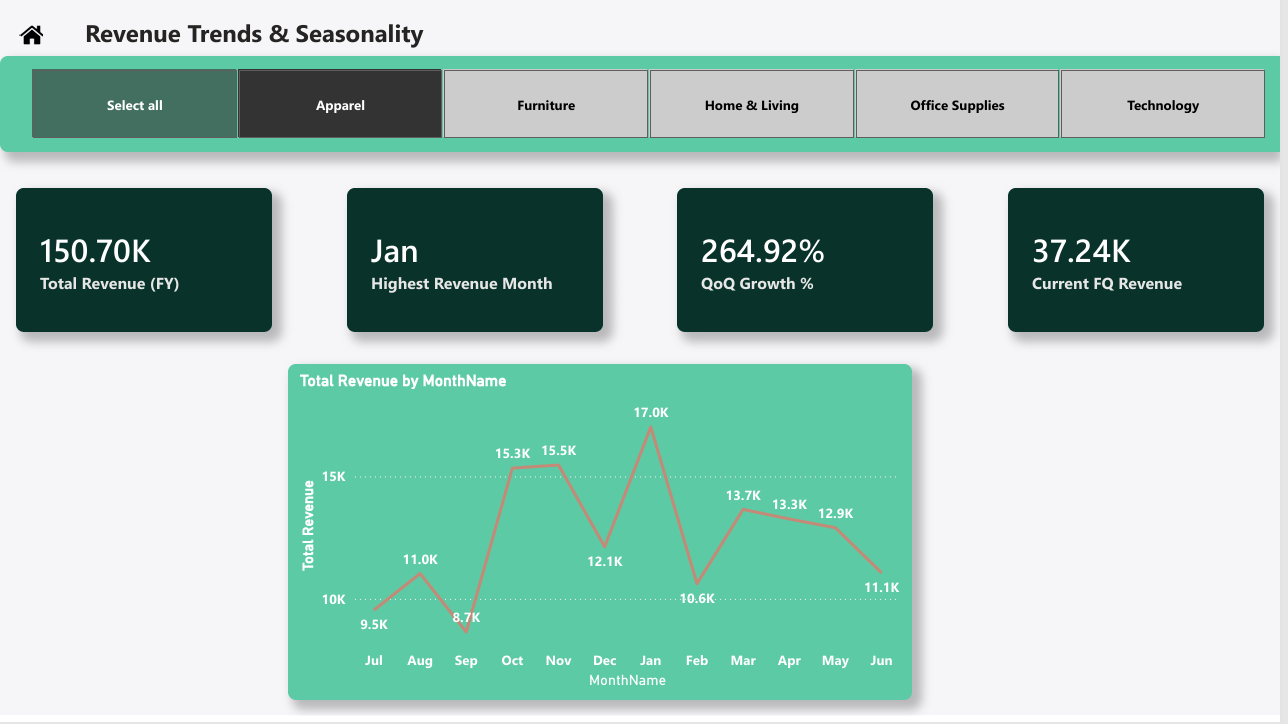

Layout of this report page (visuals, bound fields, positions):
{"tool":"powerbi","page":{"name":"Revenue Trends & Seasonality","canvas":[1280,720],"ordinal":2},"visuals":[{"type":"image","box":[20,15,24,48],"z":0,"group":"g1"},{"type":"slicer","fields":{"Values":["sales_revenue_dataset.Category"]},"box":[0,60,1296,96],"z":0},{"type":"textbox","box":[80,15,432,72],"z":1000,"group":"g1"},{"type":"cardVisual","fields":{"Data":["FiscalCalendar.Highest Revenue Month"]},"box":[346.7,192,256,144],"z":1000},{"type":"cardVisual","fields":{"Data":["FiscalCalendar.QoQ Growth %"]},"box":[677.3,192,256,144],"z":2000},{"type":"cardVisual","fields":{"Data":["FiscalCalendar.Current FQ Revenue"]},"box":[1008,192,256,144],"z":3000},{"type":"cardVisual","fields":{"Data":["sales_revenue_dataset.Total Revenue"]},"box":[16,192,256,144],"z":4000},{"type":"group","id":"g1","title":"Group 1","box":[20,15,492,72],"z":5000},{"type":"lineChart","fields":{"Category":["FiscalCalendar.FiscalYear","FiscalCalendar.MonthName","FiscalCalendar.FiscalQuarter"],"Y":["sales_revenue_dataset.Total Revenue"]},"box":[288,368,624,336],"z":6000}]}

Visuals, with their boxes in screenshot pixels (x1, y1, x2, y2), scaled from the page's 1280x720 canvas onto the 1288x724 screenshot:
image: l=20, t=15, r=44, b=63
slicer - sales_revenue_dataset.Category: l=0, t=60, r=1287, b=157
textbox: l=80, t=15, r=515, b=87
cardVisual - FiscalCalendar.Highest Revenue Month: l=349, t=193, r=606, b=338
cardVisual - FiscalCalendar.QoQ Growth %: l=682, t=193, r=939, b=338
cardVisual - FiscalCalendar.Current FQ Revenue: l=1014, t=193, r=1272, b=338
cardVisual - sales_revenue_dataset.Total Revenue: l=16, t=193, r=274, b=338
"Group 1" group: l=20, t=15, r=515, b=87
lineChart - FiscalCalendar.FiscalYear x FiscalCalendar.MonthName: l=290, t=370, r=918, b=708
